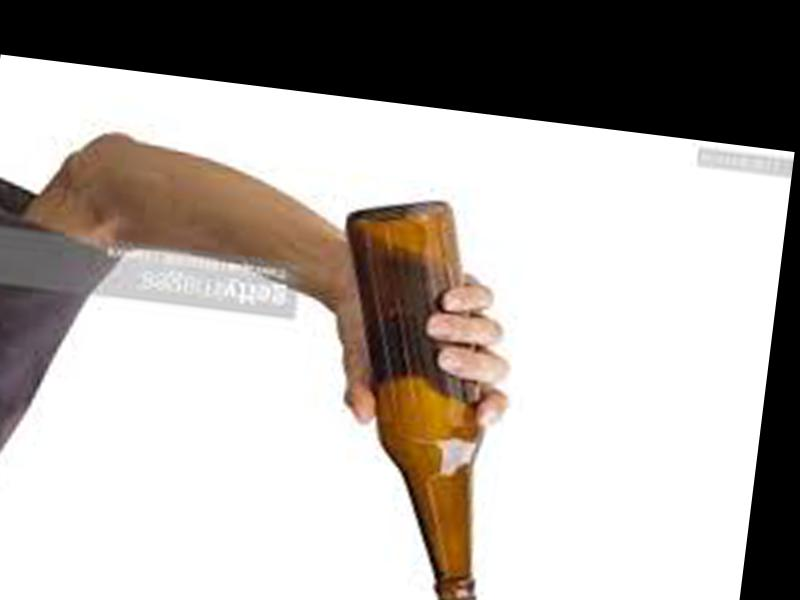Beer: (297, 192, 523, 600)
